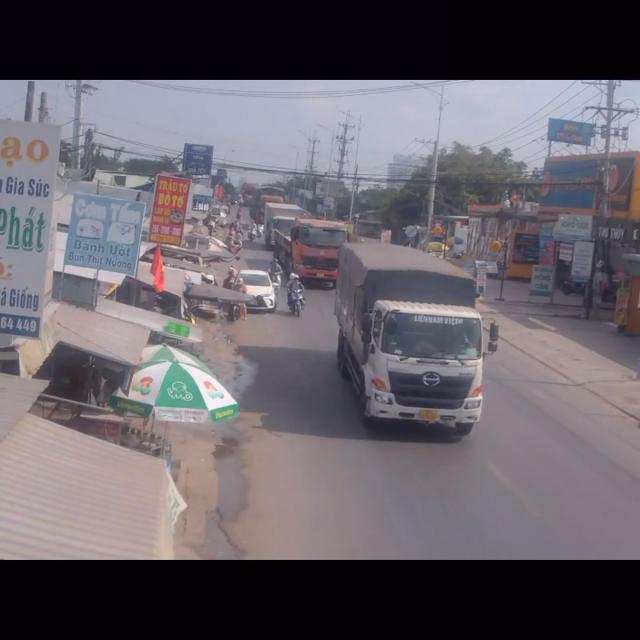motorbike: (286, 273, 306, 316)
truck: (335, 249, 485, 434), (270, 216, 348, 288)
